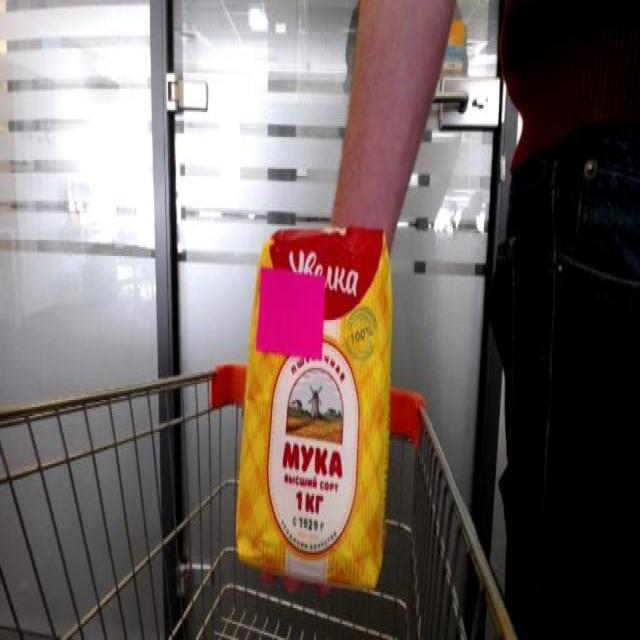Almond Milk: (231, 206, 395, 603)
